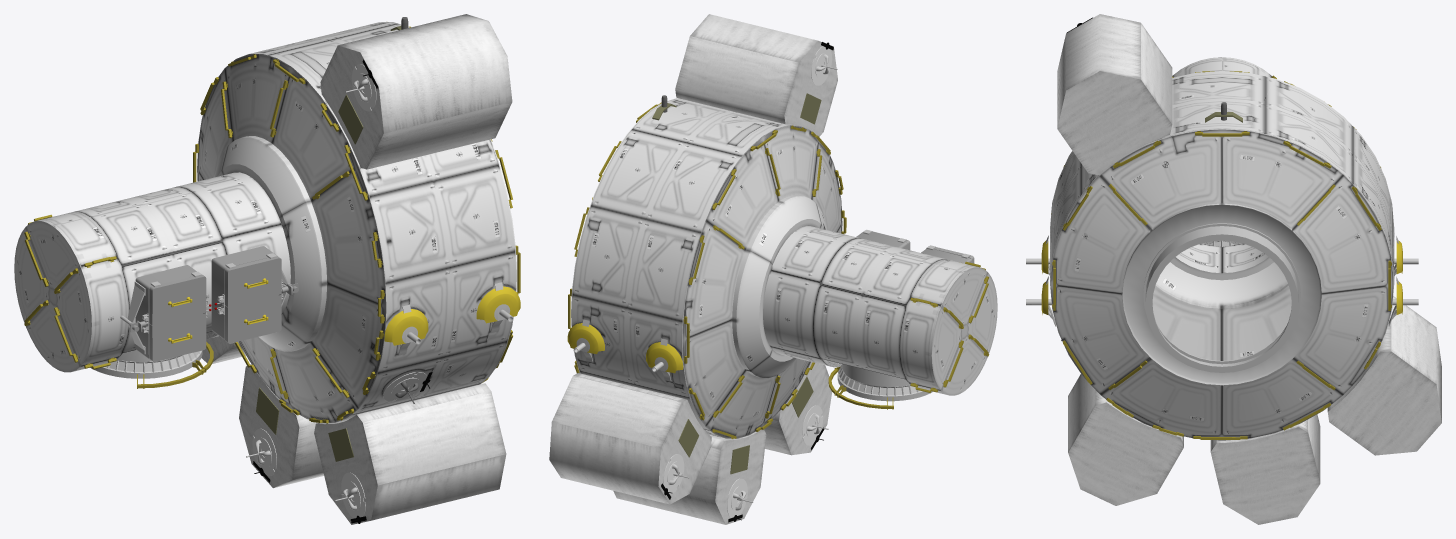
3 renders of one model, left to right at view 1: azimuth 30°, elevation 25°; view 2: azimuth 150°, elevation 25°; view 3: azimuth 270°, elevation 25°, orthographic. The views are drawn at different scales.
Visible parts, largest first — view 1: main-struct; view 2: main-struct; view 3: main-struct.
Part boxes in pixels (left/top/right/bottom): main-struct: left=14, top=14, right=520, bottom=524; main-struct: left=549, top=14, right=997, bottom=524; main-struct: left=1026, top=14, right=1441, bottom=524.
Bounding box in the file's own units: 5.65 × 6.47 × 5.37.
Materials: 16 (7 with a texture image).
